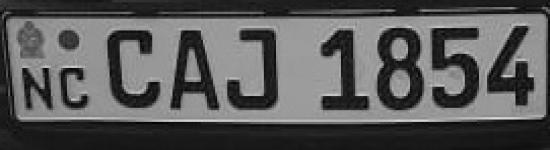1: (307, 22, 374, 118)
4: (486, 15, 537, 112)
5: (424, 16, 485, 116)
8: (376, 21, 425, 117)
A: (166, 23, 224, 120)
C: (100, 23, 165, 116), (59, 57, 93, 113)
J: (227, 21, 295, 117)
N: (18, 59, 58, 116)
